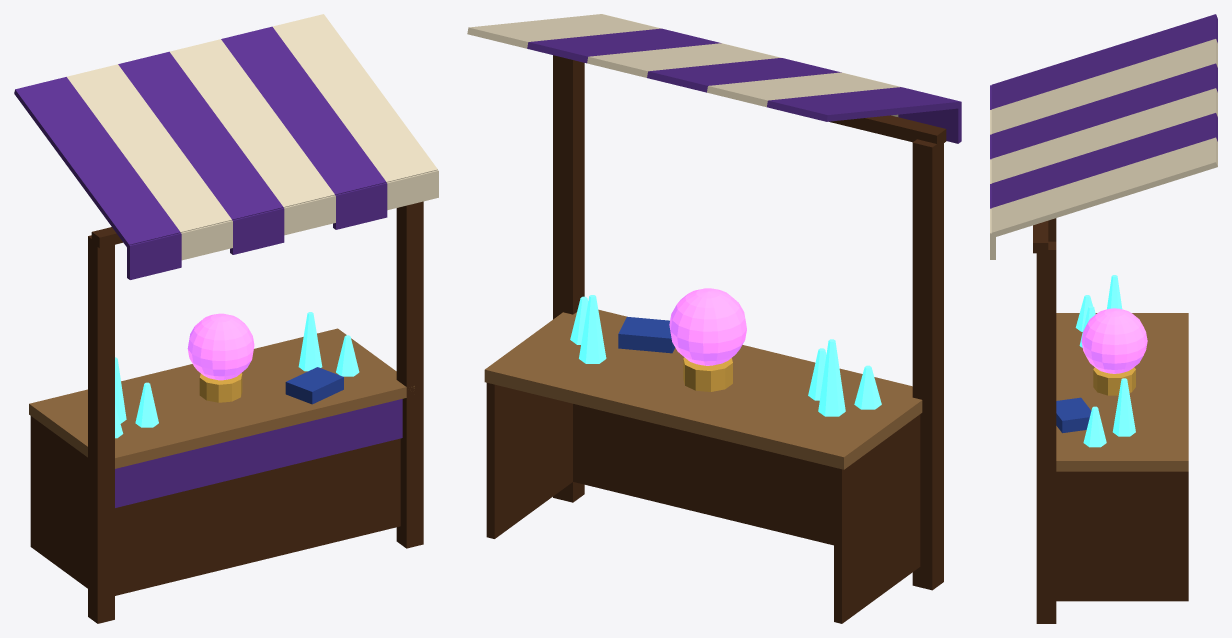
The model's file is shop_magic_stall.gltf.
3 views of the same model, side by side, from view 1: azimuth 30°, elevation 25°; view 2: azimuth 150°, elevation 25°; view 3: azimuth 270°, elevation 25° (orthographic). The views are drawn at different scales.
Parts seen in each view (by area): view 1: ShopMagicStallShopWood, ShopMagicStallShopCloth, ShopMagicStallShopCream, ShopMagicStallShopWoodLight, ShopMagicStallShopViolet, ShopMagicStallShopCrystal, ShopMagicStallShopBlue, ShopMagicStallShopGold; view 2: ShopMagicStallShopWood, ShopMagicStallShopWoodLight, ShopMagicStallShopCloth, ShopMagicStallShopCream, ShopMagicStallShopViolet, ShopMagicStallShopCrystal, ShopMagicStallShopBlue, ShopMagicStallShopGold; view 3: ShopMagicStallShopWood, ShopMagicStallShopCream, ShopMagicStallShopCloth, ShopMagicStallShopWoodLight, ShopMagicStallShopViolet, ShopMagicStallShopCrystal, ShopMagicStallShopBlue, ShopMagicStallShopGold.
Part boxes in pixels (x1=…): ShopMagicStallShopWood: x1=30, y1=201, x2=423, y2=623; ShopMagicStallShopCloth: x1=14, y1=26, x2=402, y2=507; ShopMagicStallShopCream: x1=67, y1=14, x2=438, y2=260; ShopMagicStallShopWoodLight: x1=29, y1=328, x2=414, y2=468; ShopMagicStallShopViolet: x1=187, y1=313, x2=254, y2=380; ShopMagicStallShopCrystal: x1=115, y1=312, x2=359, y2=438; ShopMagicStallShopBlue: x1=285, y1=367, x2=343, y2=404; ShopMagicStallShopGold: x1=199, y1=373, x2=242, y2=402; ShopMagicStallShopWood: x1=486, y1=55, x2=946, y2=623; ShopMagicStallShopWoodLight: x1=484, y1=309, x2=922, y2=469; ShopMagicStallShopCloth: x1=527, y1=28, x2=961, y2=143; ShopMagicStallShopCream: x1=467, y1=14, x2=901, y2=116; ShopMagicStallShopViolet: x1=669, y1=288, x2=746, y2=365; ShopMagicStallShopCrystal: x1=570, y1=295, x2=881, y2=416; ShopMagicStallShopBlue: x1=618, y1=316, x2=675, y2=353; ShopMagicStallShopGold: x1=683, y1=357, x2=732, y2=391; ShopMagicStallShopWood: x1=1033, y1=218, x2=1188, y2=623; ShopMagicStallShopCream: x1=990, y1=39, x2=1217, y2=259; ShopMagicStallShopCloth: x1=990, y1=14, x2=1217, y2=208; ShopMagicStallShopWoodLight: x1=1056, y1=313, x2=1188, y2=471; ShopMagicStallShopViolet: x1=1081, y1=308, x2=1147, y2=373; ShopMagicStallShopCrystal: x1=1075, y1=275, x2=1135, y2=447; ShopMagicStallShopBlue: x1=1056, y1=397, x2=1091, y2=433; ShopMagicStallShopGold: x1=1093, y1=367, x2=1135, y2=395.
Size of what is drawn, in the model's own units: 1.9 by 2.59 by 1.17.
